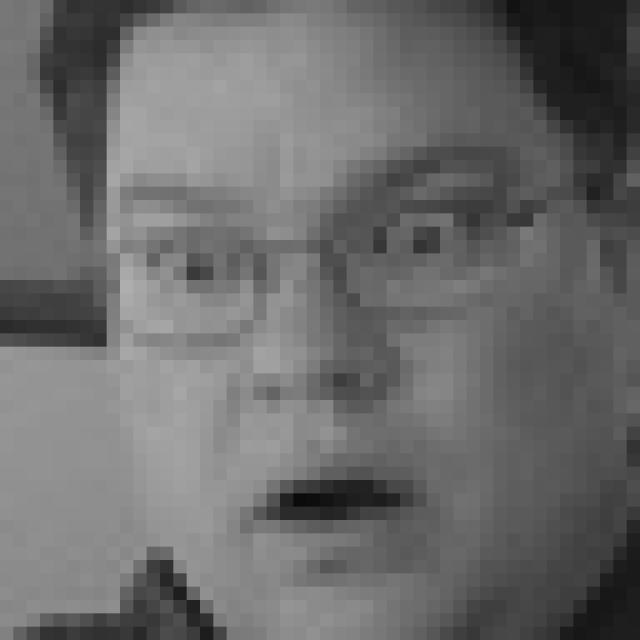surprise: (102, 171, 539, 555)
